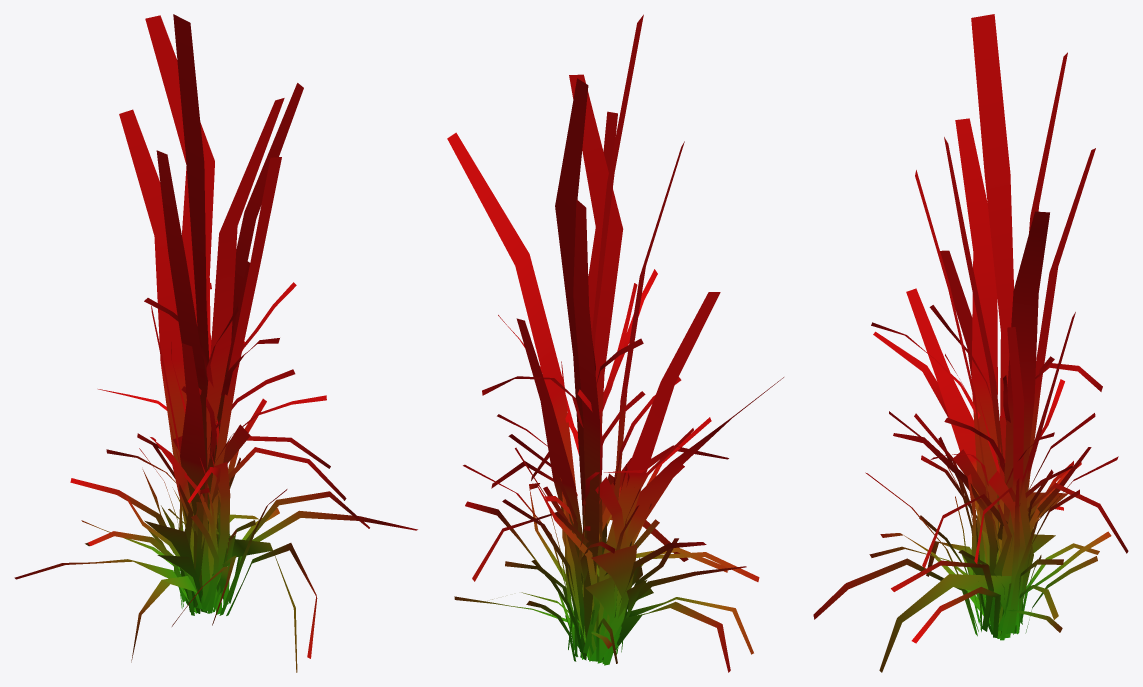
File: Var4_LOD2.fbx
3 views of the same model, side by side, from view 1: azimuth 30°, elevation 25°; view 2: azimuth 150°, elevation 25°; view 3: azimuth 270°, elevation 25° (orthographic). The views are drawn at different scales.
Visible parts, largest first — view 1: _5f7b_Var4_LOD2; view 2: _5f7b_Var4_LOD2; view 3: _5f7b_Var4_LOD2.
Boxes of the visible parts, x1,y1,x2,y2 form: _5f7b_Var4_LOD2: (14,14,417,672); _5f7b_Var4_LOD2: (447,14,783,672); _5f7b_Var4_LOD2: (813,14,1128,672).
Bounding box in the file's own units: 48.52 × 89.72 × 40.91.
